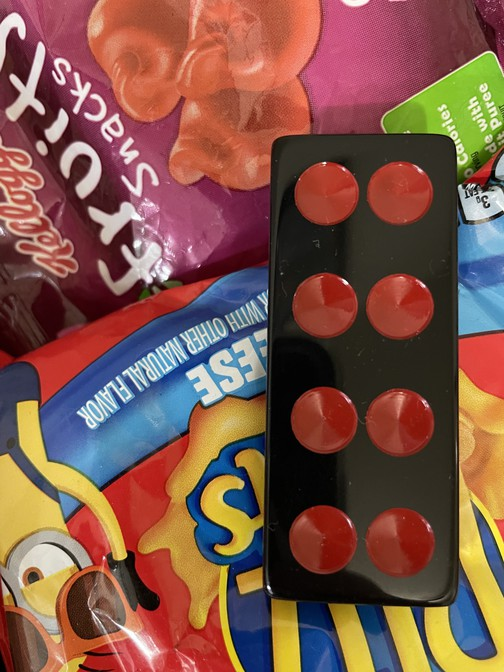man: (267, 135, 457, 608)
